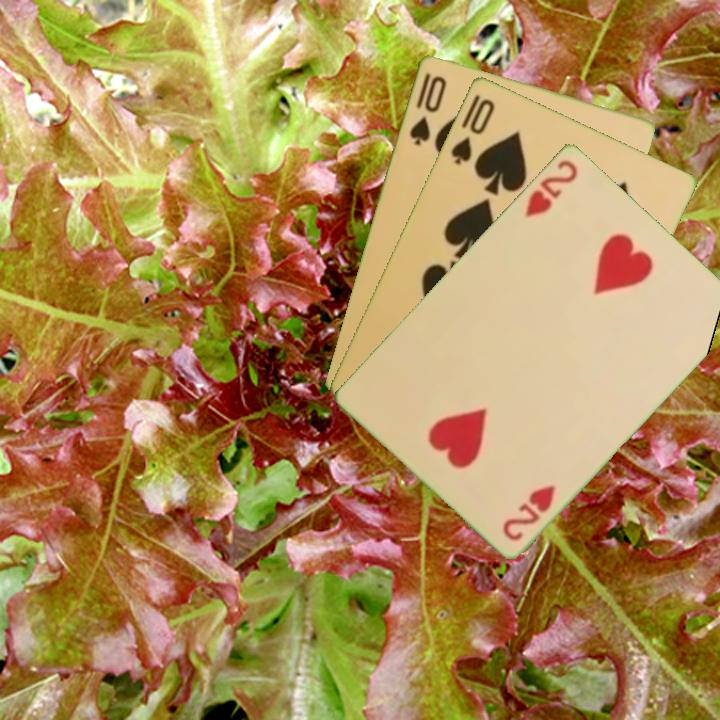10s: (447, 94, 498, 168), (405, 68, 449, 148)
2h: (521, 155, 581, 220), (498, 481, 559, 543)
